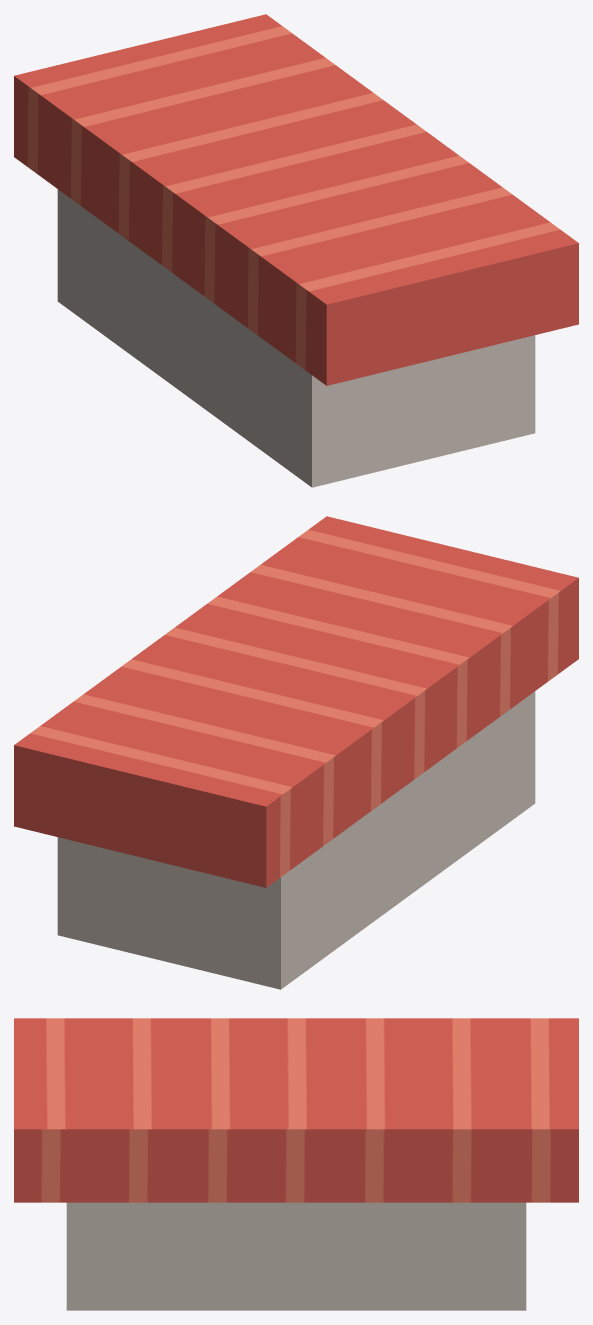
Rendered from Sushi-14.fbx.
The picture shows the model from 3 angles, top to bottom: view 1: azimuth 30°, elevation 25°; view 2: azimuth 150°, elevation 25°; view 3: azimuth 270°, elevation 25°; orthographic projection. The views are drawn at different scales.
Parts seen in each view (by area): view 1: Cube; view 2: Cube; view 3: Cube.
Part boxes in pixels (x1,y1,x2,y2): Cube: (14, 14, 578, 487); Cube: (14, 516, 578, 989); Cube: (14, 1018, 578, 1310).
Size of the model in its own units: 221 by 174 by 475.
